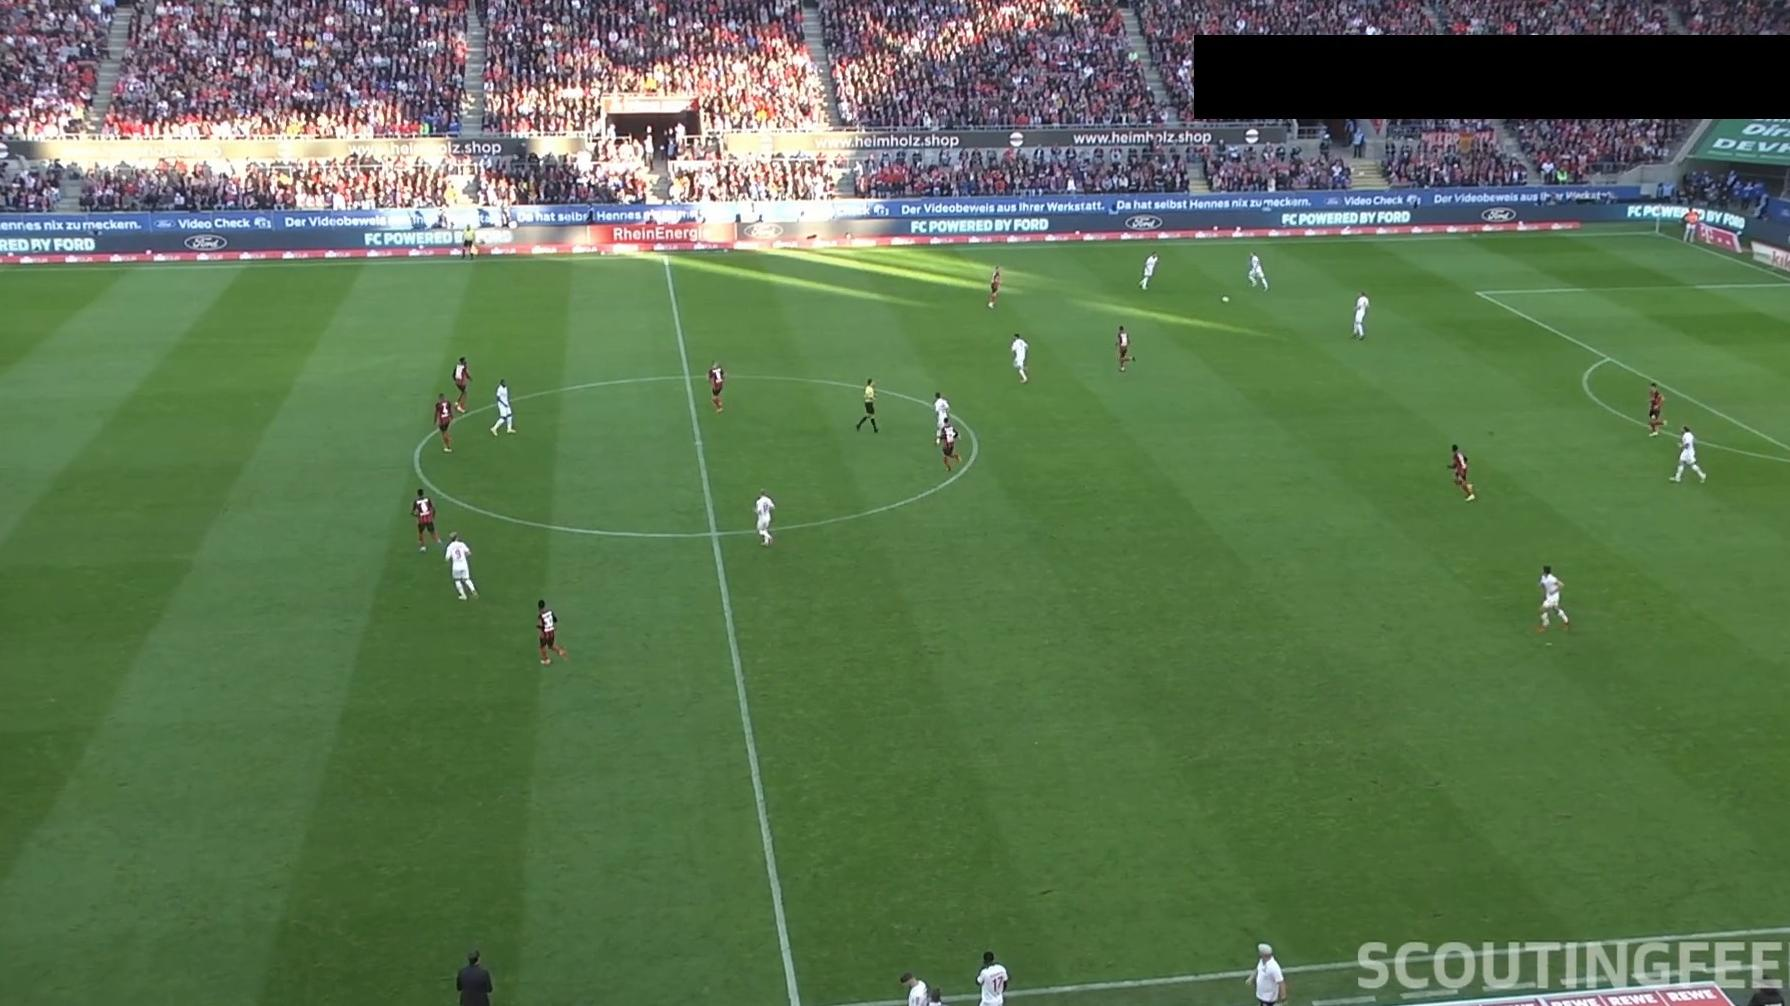ball: (1222, 295, 1231, 303)
